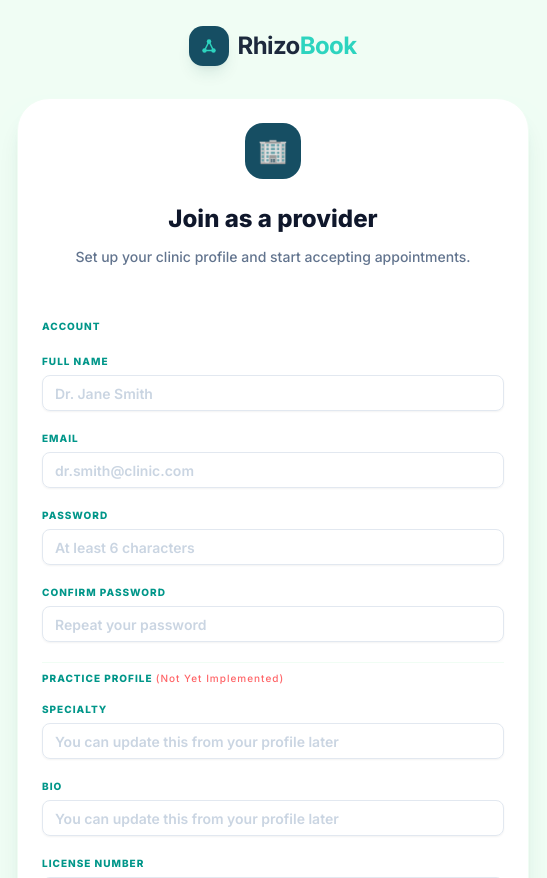
Test: ProviderRegisterPage › shows zod error for invalid email
Step 1. Type "Dr. Smith" into the field labelled "Full Name" → point(273, 393), box [42, 375, 504, 411]
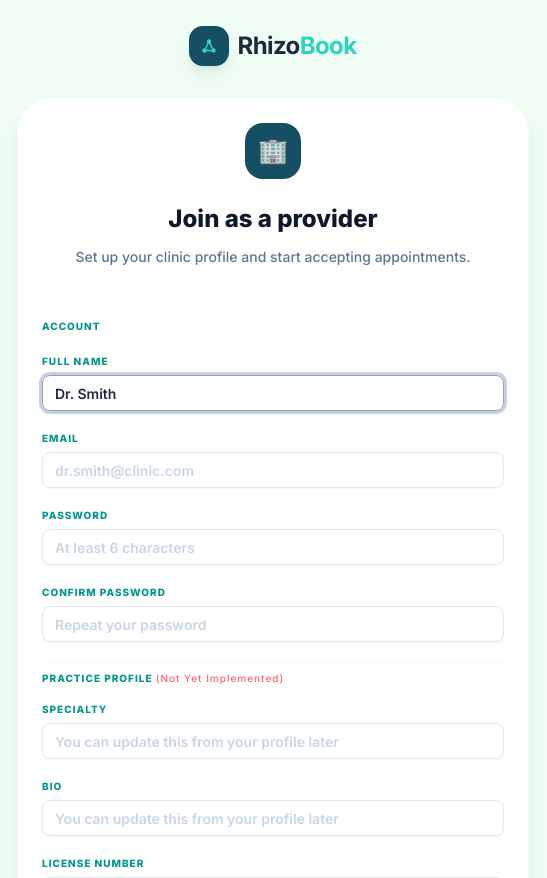
Step 2. Type "not-an-email" into the field labelled "Email" → point(273, 470), box [42, 452, 504, 488]
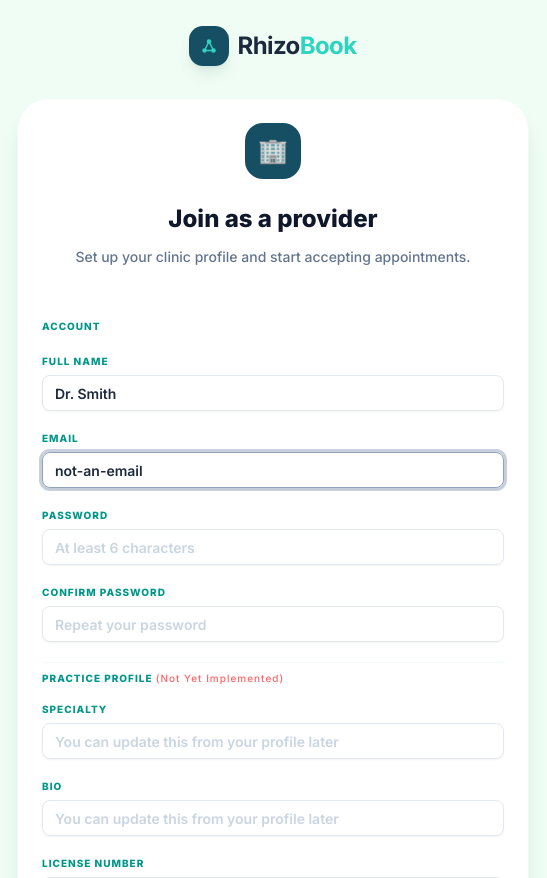
Step 3. Type "password123" into the password field labelled "Password" → point(273, 547), box [42, 529, 504, 565]
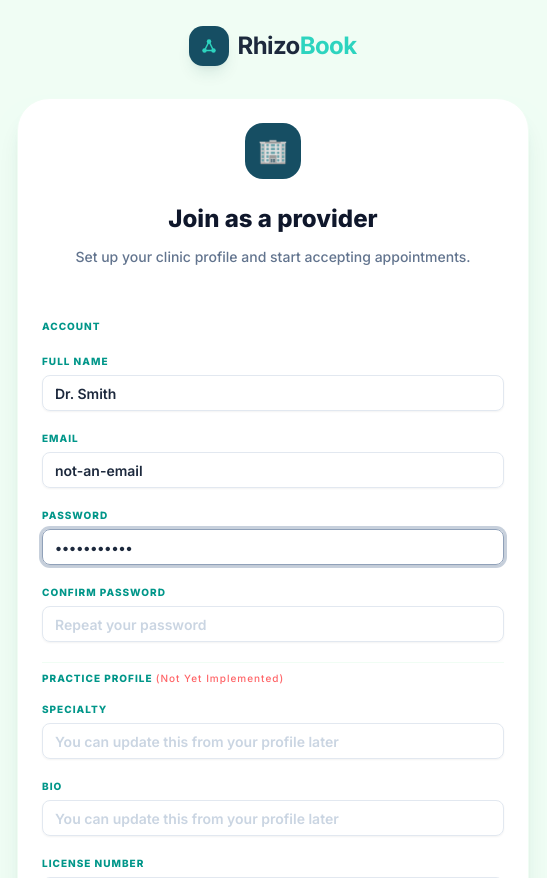
Step 4. Type "password123" into the password field labelled "Confirm Password" → point(273, 624), box [42, 606, 504, 642]
(page scrolled)
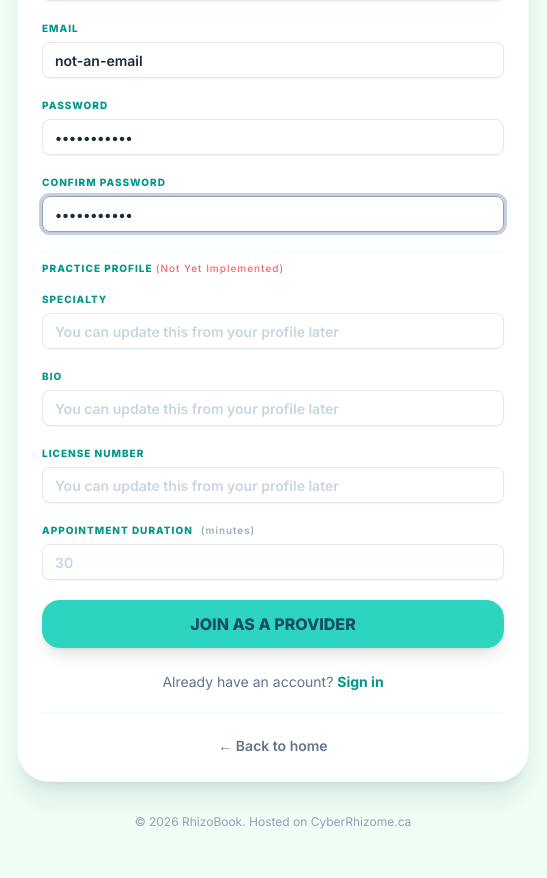
Step 5. Click the button "JOIN AS A PROVIDER" → point(273, 624), box [42, 600, 504, 648]
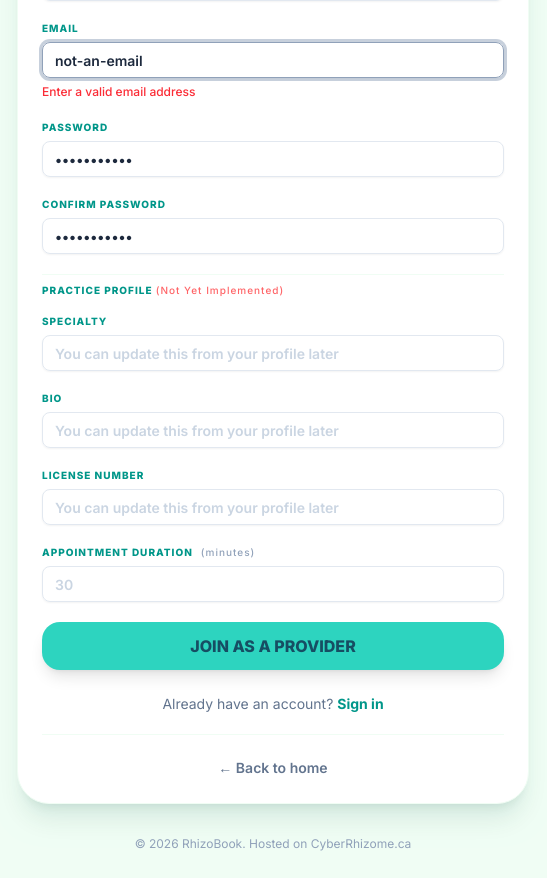
Expected: the text "Enter a valid email address" is shown, [42, 84, 195, 99]
